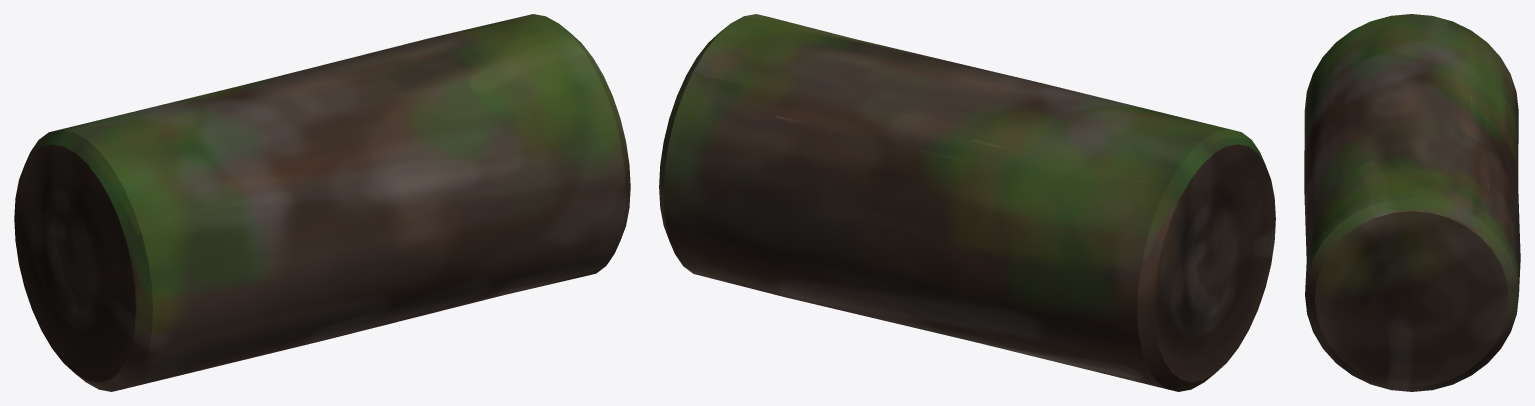
The model's file is log.glb.
3 renders of one model, left to right at view 1: azimuth 30°, elevation 25°; view 2: azimuth 150°, elevation 25°; view 3: azimuth 270°, elevation 25°, orthographic. The views are drawn at different scales.
Visible parts, largest first — view 1: Circle; view 2: Circle; view 3: Circle.
Part boxes in pixels (x1,y1,x2,y2): Circle: [14, 14, 630, 391]; Circle: [659, 14, 1275, 391]; Circle: [1304, 14, 1520, 391].
Bounding box in the file's own units: 2.5 × 1.18 × 1.19.
1 material, 1 textured.
